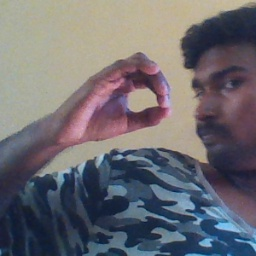O: (56, 49, 174, 145)
